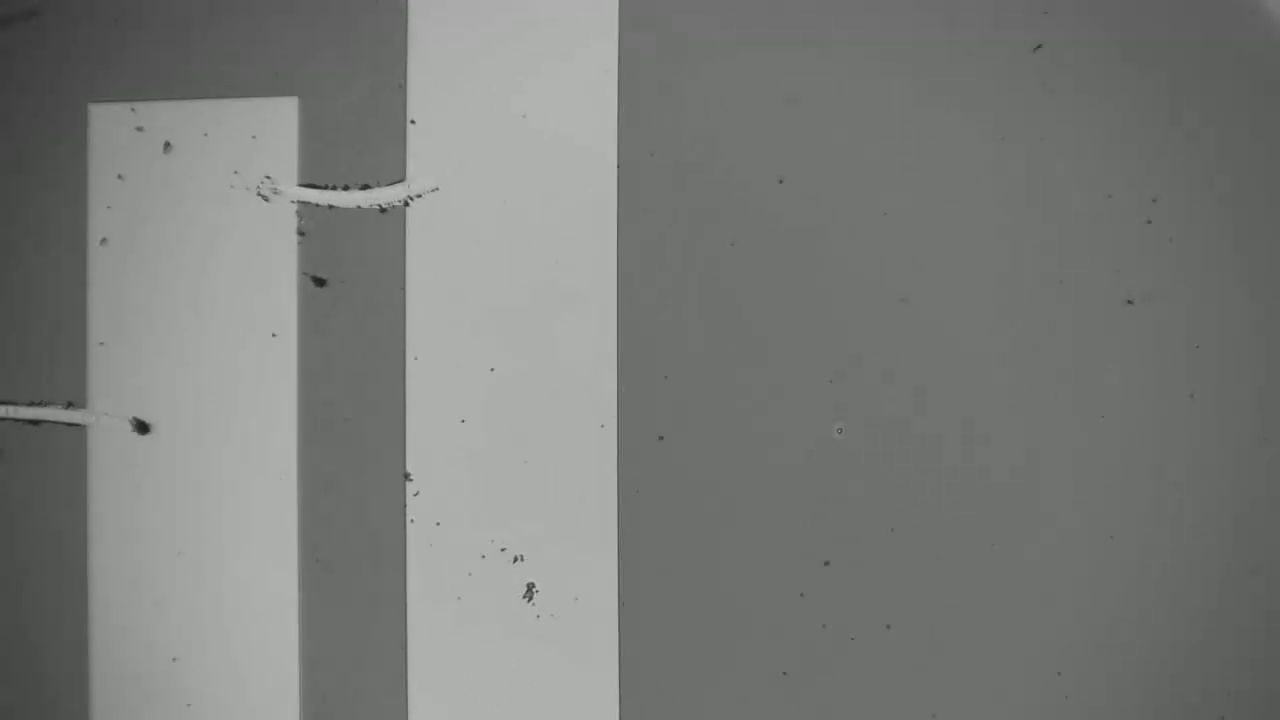Short_circuit: (278, 167, 441, 240), (1, 388, 113, 436)
